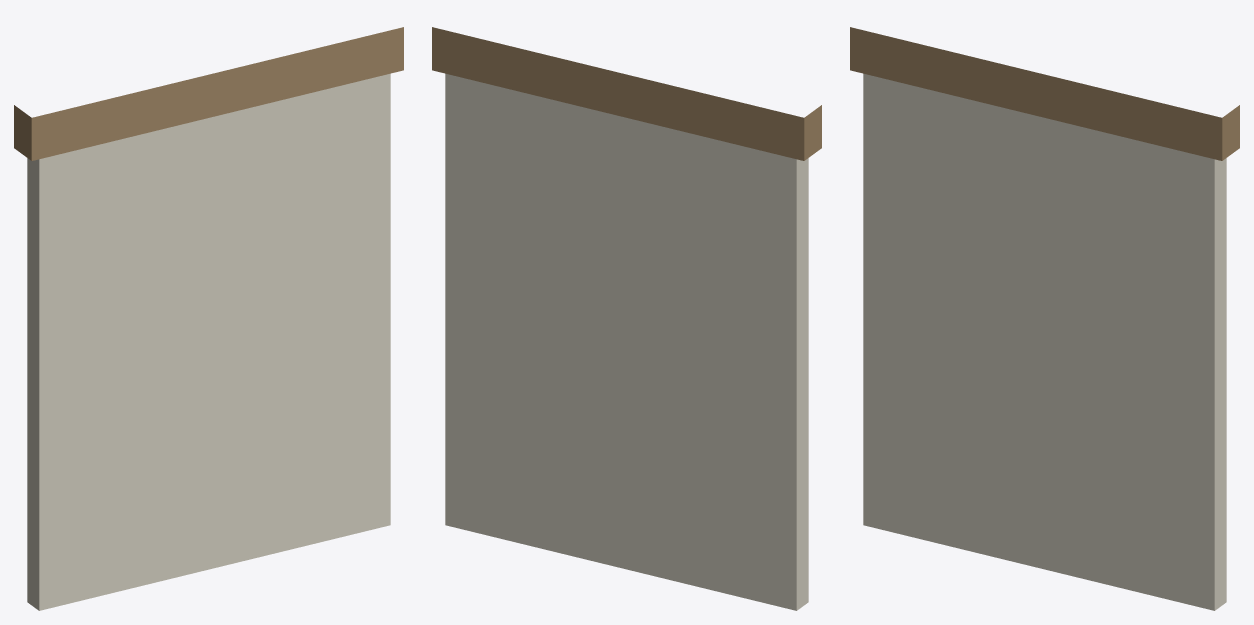
File: model.note.glb
3 views of the same model, side by side, from view 1: azimuth 30°, elevation 25°; view 2: azimuth 150°, elevation 25°; view 3: azimuth 330°, elevation 25° (orthographic).
Parts seen in each view (by area): view 1: note; view 2: note; view 3: note.
Boxes of the visible parts, box(x1,y1,x2,y2) form: note: box(14, 27, 403, 610); note: box(432, 27, 821, 610); note: box(850, 27, 1239, 610).
Bounding box in the file's own units: 0.3599 × 0.46 × 0.0298.
